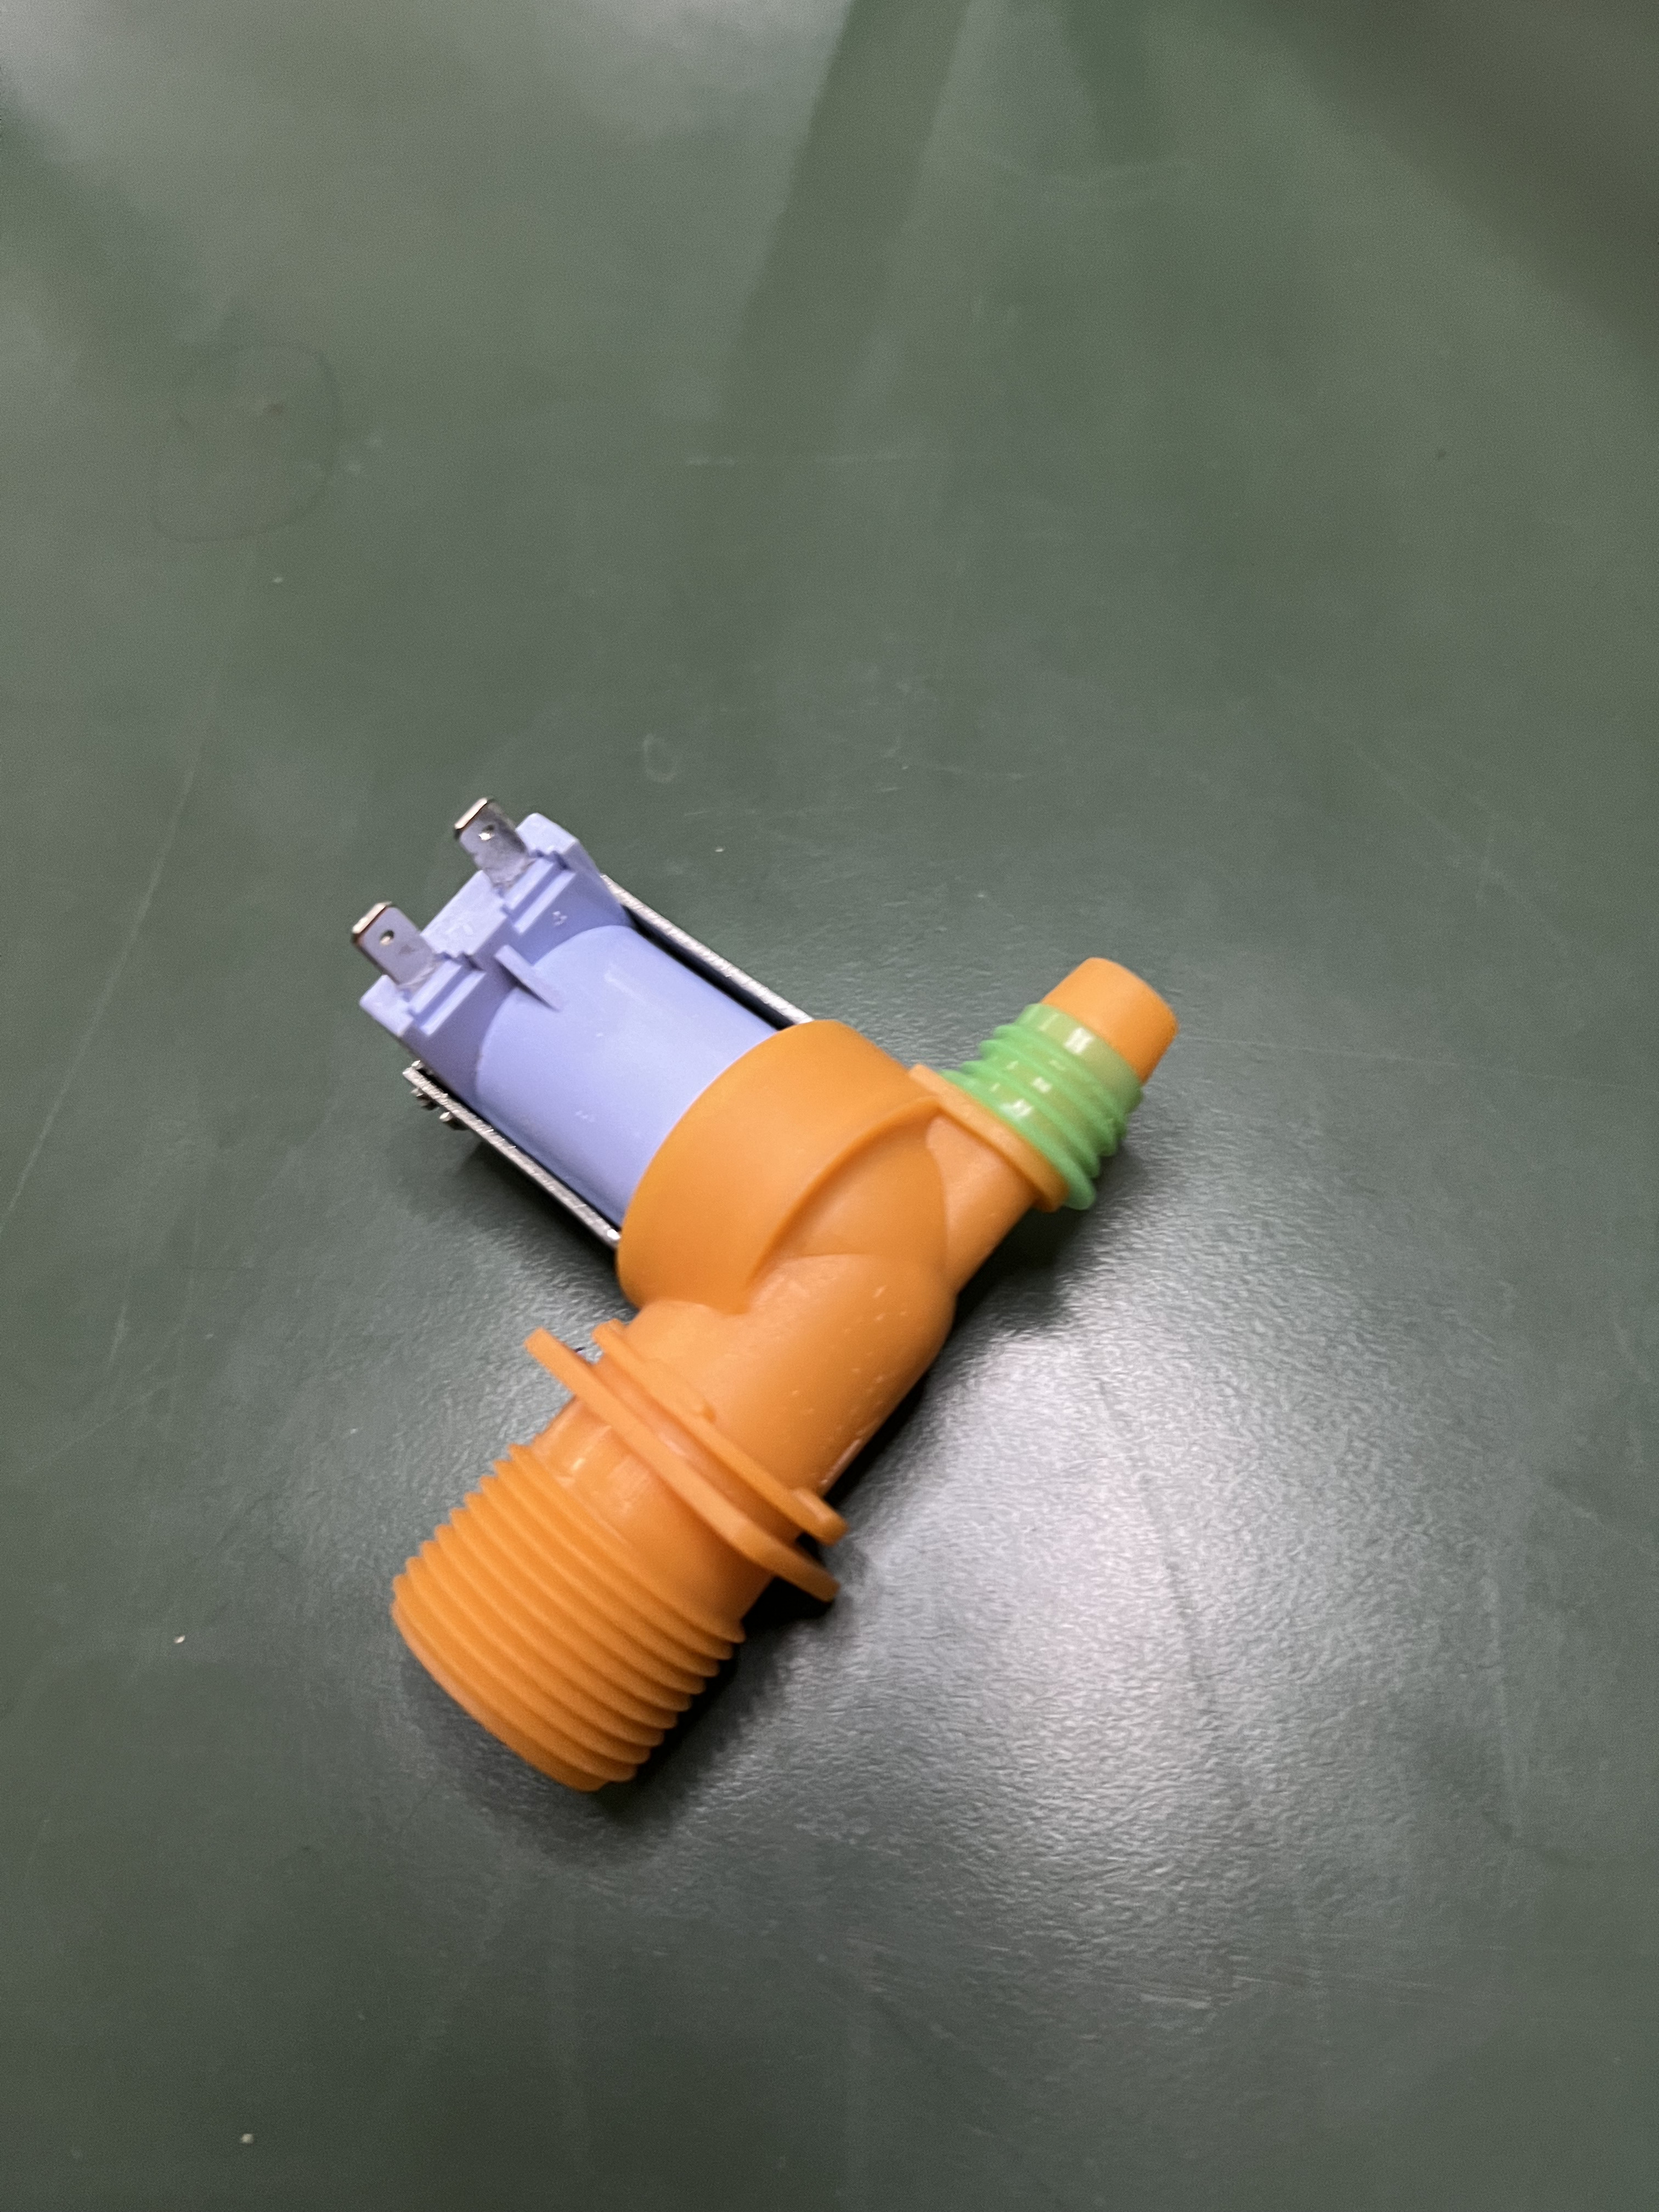ss_inlet_valves: (338, 770, 1230, 1808)
